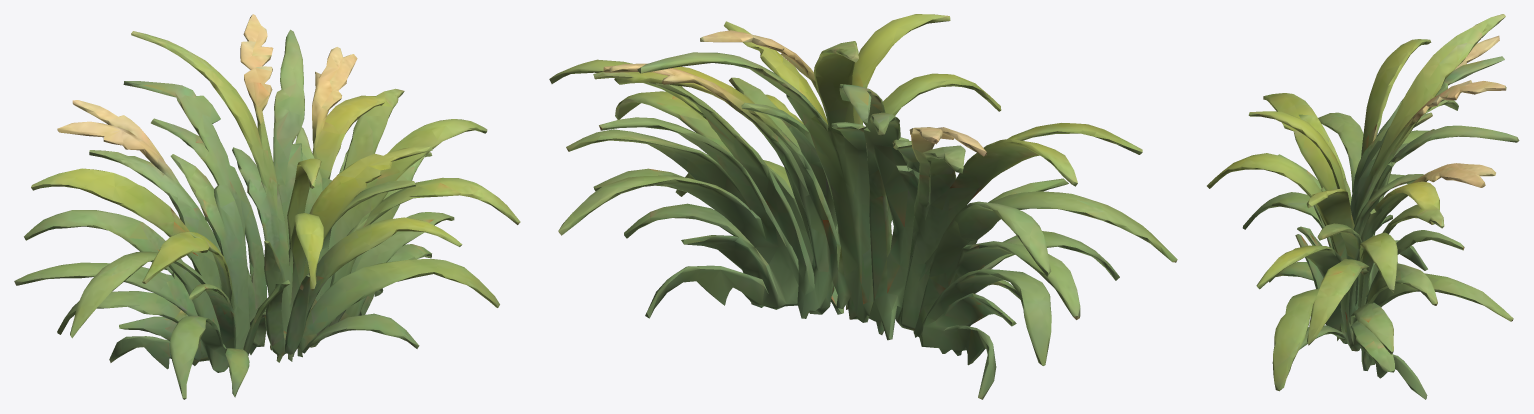
Rendered from hierba_alta.glb.
3 views of the same model, side by side, from view 1: azimuth 30°, elevation 25°; view 2: azimuth 150°, elevation 25°; view 3: azimuth 270°, elevation 25° (orthographic). The views are drawn at different scales.
Parts seen in each view (by area): view 1: hierba_alta_malla; view 2: hierba_alta_malla; view 3: hierba_alta_malla.
Part boxes in pixels (x1=…): hierba_alta_malla: x1=14, y1=14, x2=520, y2=399; hierba_alta_malla: x1=549, y1=14, x2=1177, y2=399; hierba_alta_malla: x1=1207, y1=14, x2=1519, y2=399.
Size of the model in its own units: 0.4908 by 0.2945 by 0.2903.
Materials: 1 (1 with a texture image).
